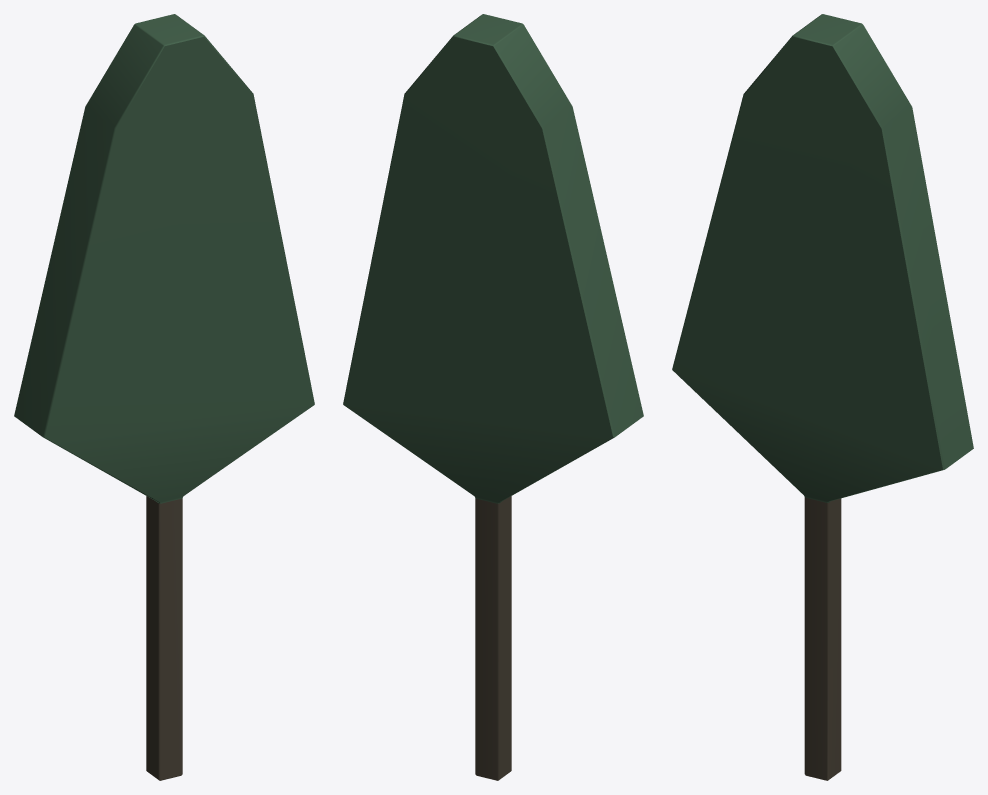
The model's file is Tree 3.fbx.
3 views of the same model, side by side, from view 1: azimuth 30°, elevation 25°; view 2: azimuth 150°, elevation 25°; view 3: azimuth 330°, elevation 25° (orthographic).
Visible parts, largest first — view 1: pCube11; view 2: pCube11; view 3: pCube11.
Part boxes in pixels (<box>): pCube11: <box>14,14,314,780</box>; pCube11: <box>343,14,643,780</box>; pCube11: <box>672,14,973,780</box>.
Bounding box in the file's own units: 1.11 × 2.91 × 0.2144.
